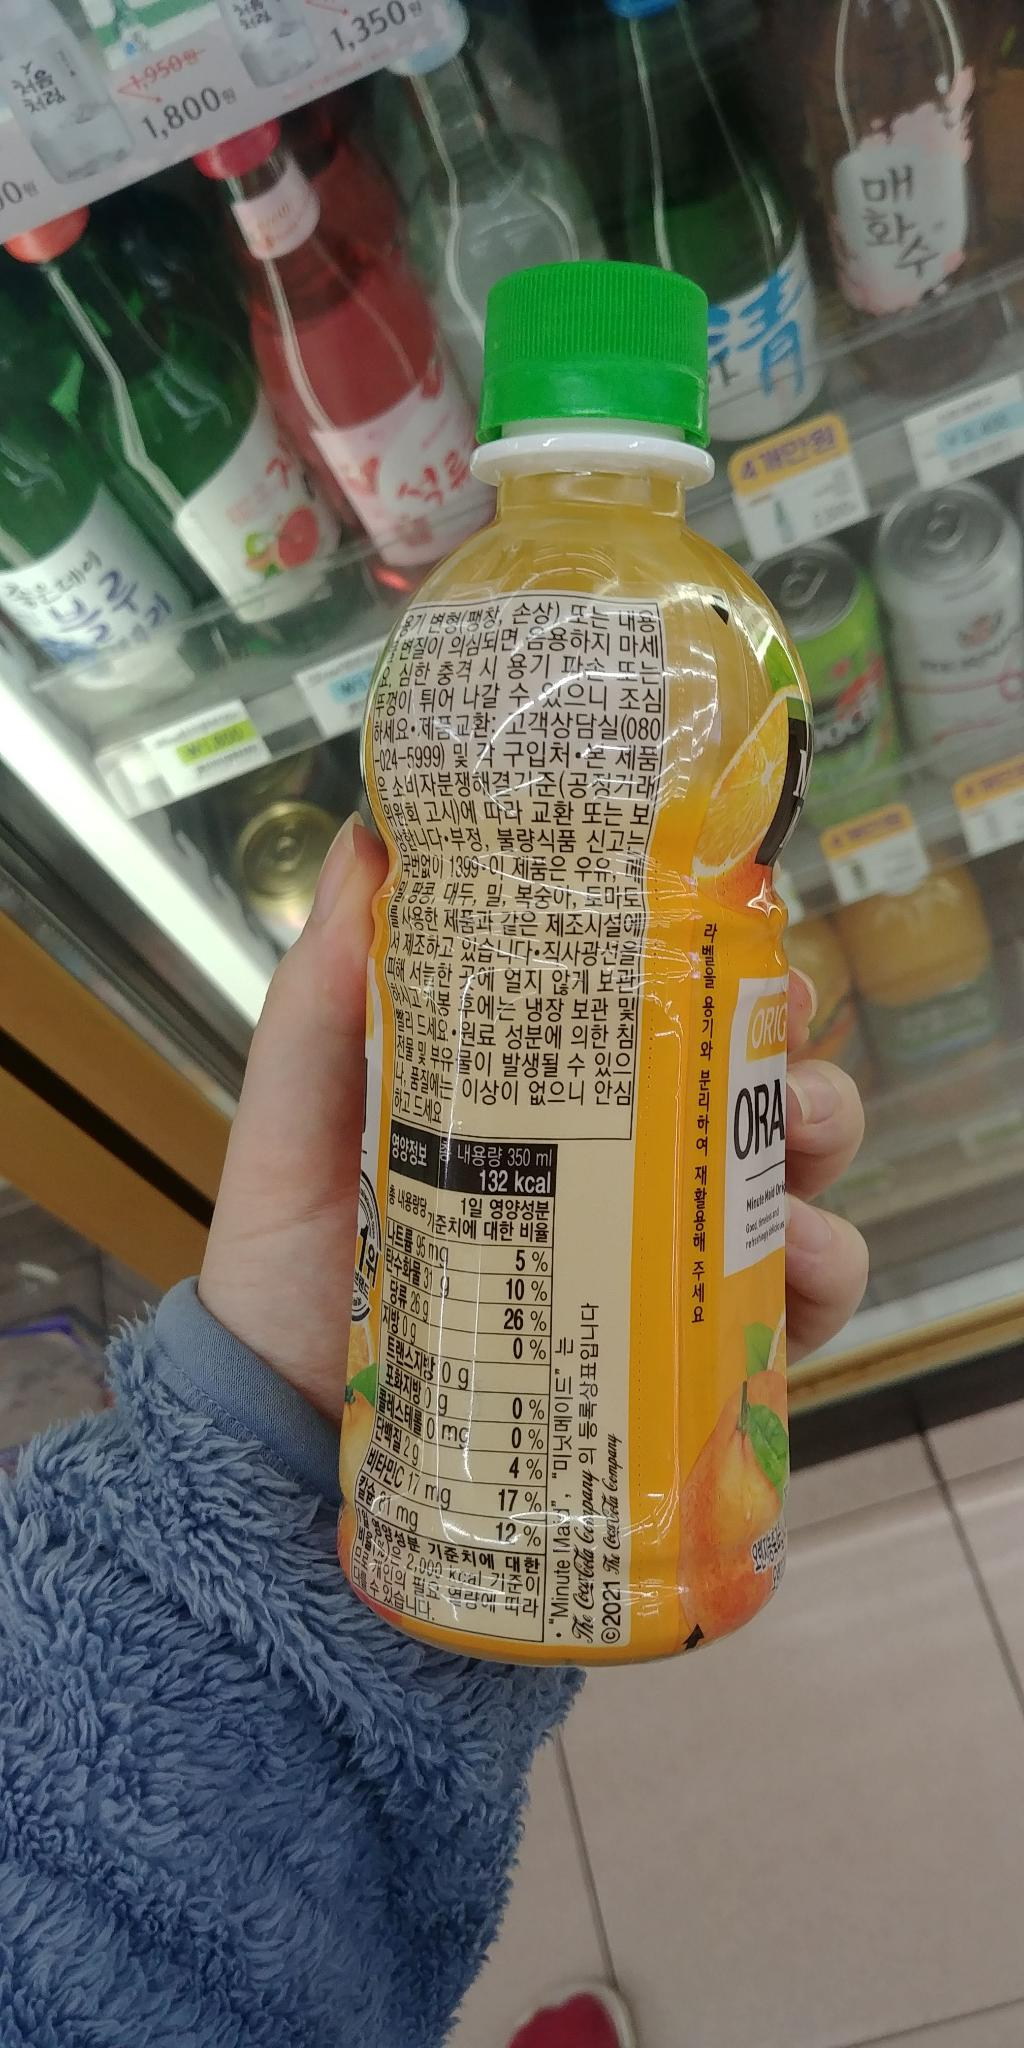minutemaid_org_orange: (325, 243, 828, 1659)
